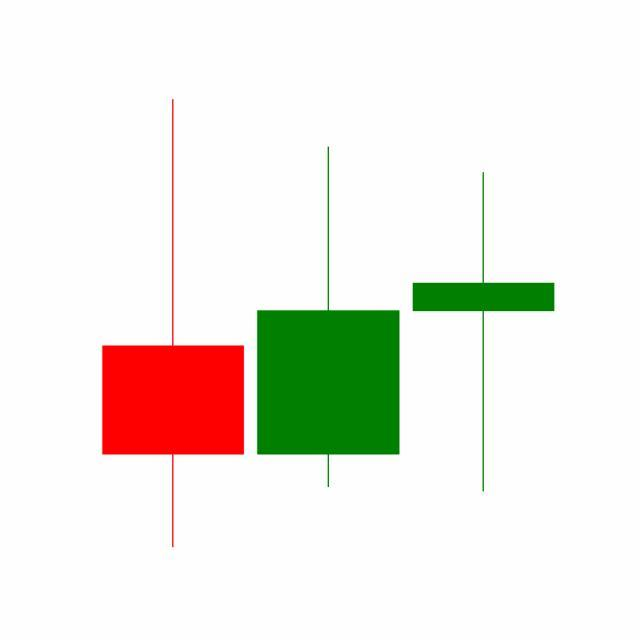Spinning Top: (406, 169, 562, 496)
